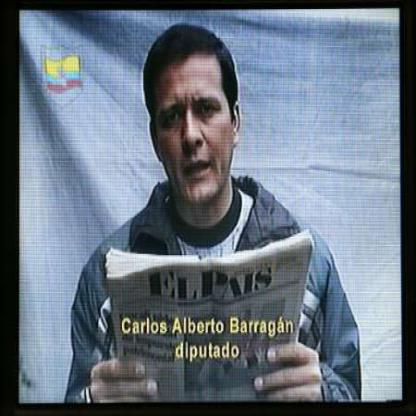face: (153, 26, 234, 206)
